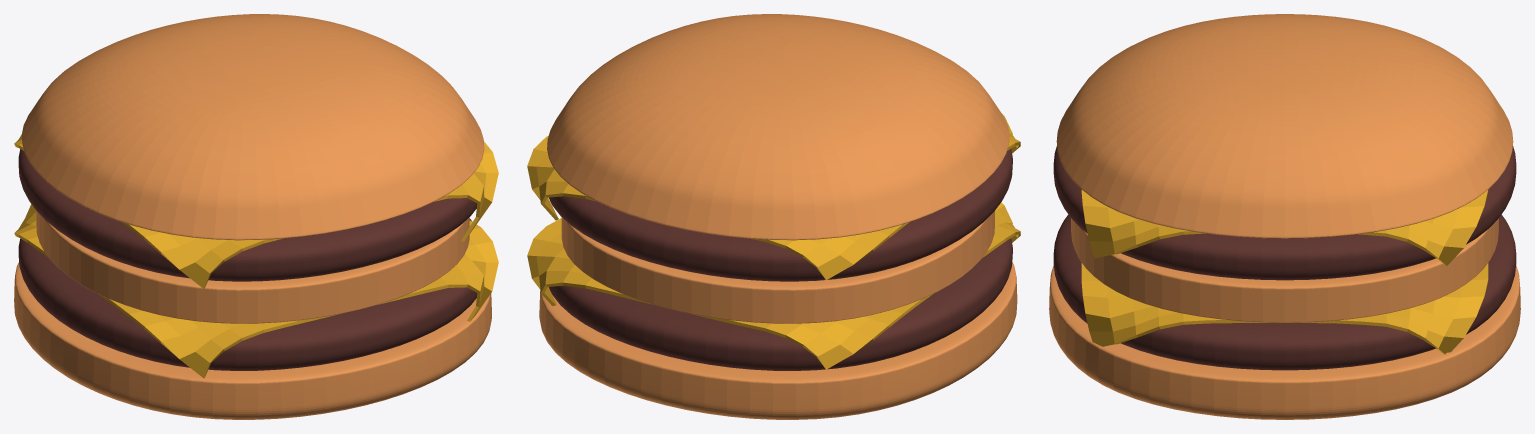
The model's file is hamburger.glb.
The picture shows the model from 3 angles, left to right: view 1: azimuth 30°, elevation 25°; view 2: azimuth 150°, elevation 25°; view 3: azimuth 270°, elevation 25°; orthographic projection.
Visible parts, largest first — view 1: TopBun, BottomBun, TopBun.001, Meat, Meat.001, Cheese, Cheese.001; view 2: TopBun, BottomBun, TopBun.001, Meat, Meat.001, Cheese, Cheese.001; view 3: TopBun, BottomBun, TopBun.001, Meat, Meat.001, Cheese, Cheese.001.
Boxes of the visible parts, x1,y1,x2,y2 form: TopBun: (21, 14, 484, 240); BottomBun: (14, 262, 491, 419); TopBun.001: (36, 211, 469, 323); Meat: (18, 218, 477, 370); Meat.001: (18, 149, 477, 281); Cheese: (14, 204, 498, 378); Cheese.001: (14, 134, 498, 288); TopBun: (547, 14, 1009, 240); BottomBun: (539, 262, 1017, 419); TopBun.001: (561, 211, 994, 323); Meat: (548, 238, 1012, 370); Meat.001: (549, 149, 1012, 281); Cheese: (527, 202, 1020, 369); Cheese.001: (527, 114, 1020, 279); TopBun: (1056, 14, 1513, 238); BottomBun: (1049, 265, 1520, 419); TopBun.001: (1071, 218, 1498, 322); Meat: (1053, 214, 1516, 370); Meat.001: (1053, 146, 1516, 280); Cheese: (1081, 263, 1488, 354); Cheese.001: (1081, 190, 1488, 265).
Size of the model in its own units: 8.33 by 5.49 by 8.33.
